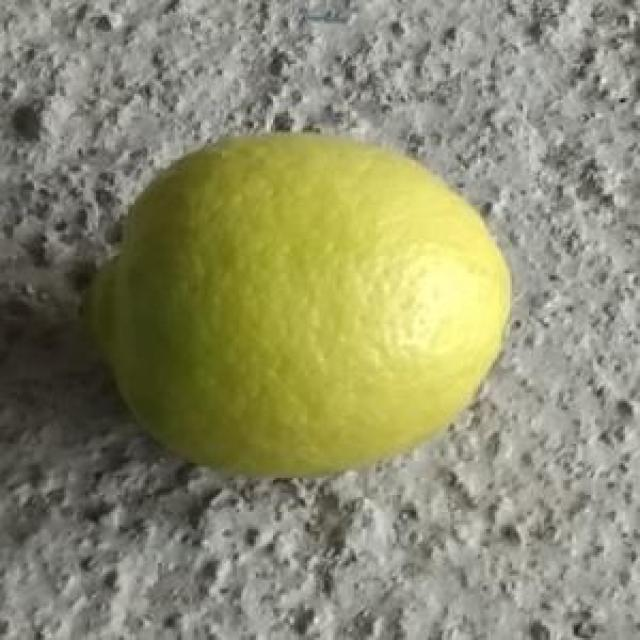lemon: (86, 130, 514, 486)
